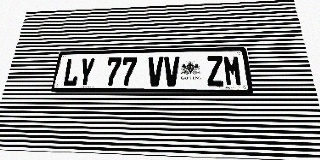7: (104, 57, 122, 86), (120, 57, 137, 86)
L: (62, 58, 81, 86)
M: (223, 55, 243, 86)
V: (164, 56, 180, 86), (147, 57, 163, 86)
Y: (77, 58, 96, 86)
Z: (206, 56, 225, 86)
